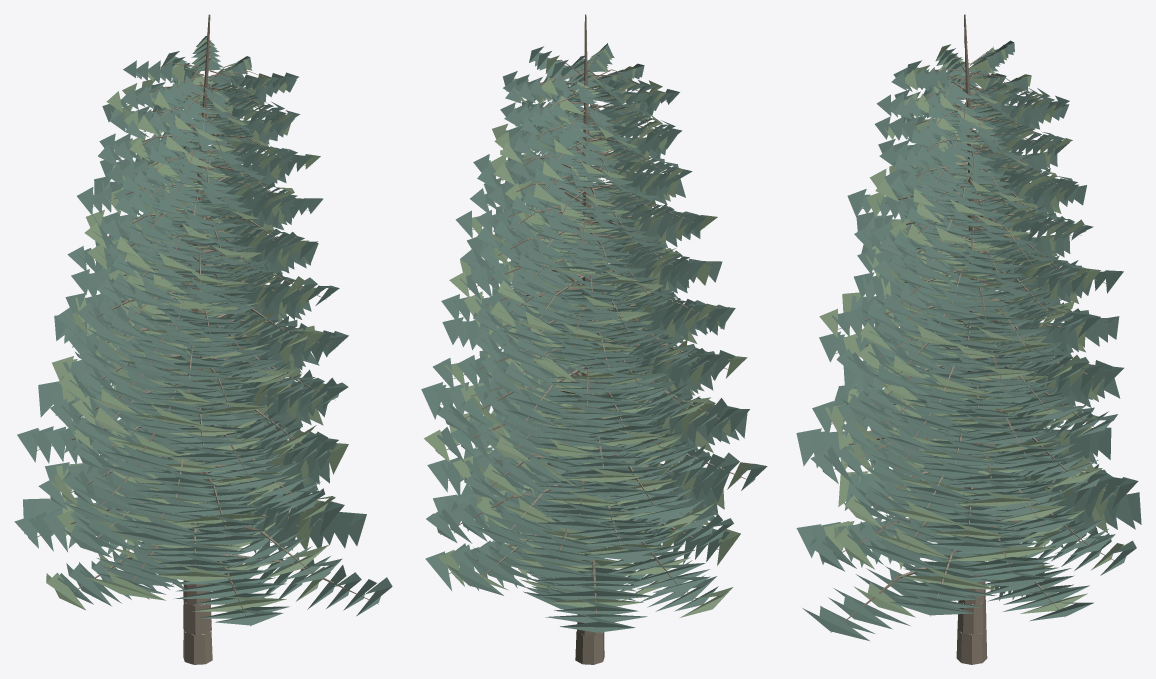
The model's file is cedar_fir_a.gltf.
3 renders of one model, left to right at view 1: azimuth 30°, elevation 25°; view 2: azimuth 150°, elevation 25°; view 3: azimuth 270°, elevation 25°, orthographic.
Visible parts, largest first — view 1: Environment_HD_Source; view 2: Environment_HD_Source; view 3: Environment_HD_Source.
Boxes of the visible parts, bbox=[...] form: Environment_HD_Source: bbox=[14, 14, 392, 664]; Environment_HD_Source: bbox=[421, 14, 767, 664]; Environment_HD_Source: bbox=[796, 14, 1141, 664].
Size of the model in its own units: 11.3 by 23.5 by 11.34.
